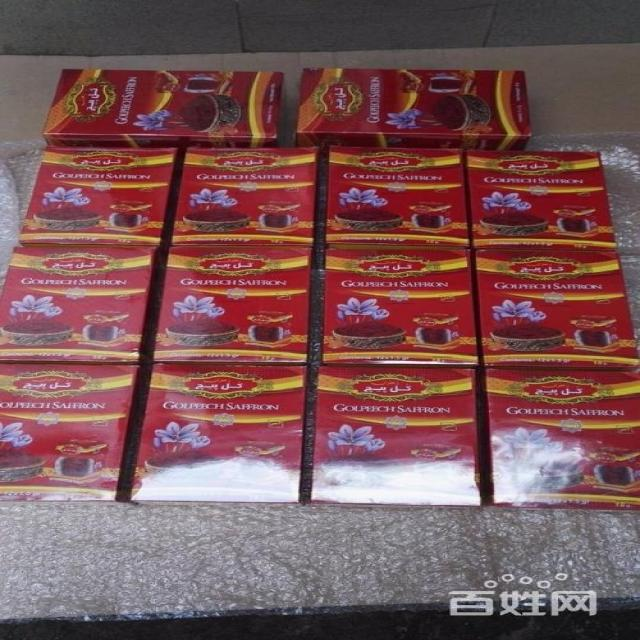box: (131, 365, 308, 506), (312, 367, 484, 509), (488, 369, 639, 510), (477, 250, 639, 370), (0, 364, 138, 504), (297, 69, 531, 151), (324, 246, 480, 367), (0, 246, 161, 362), (44, 70, 283, 147), (152, 247, 311, 362), (22, 146, 179, 247), (467, 150, 617, 250), (172, 147, 319, 245), (326, 147, 468, 247)
